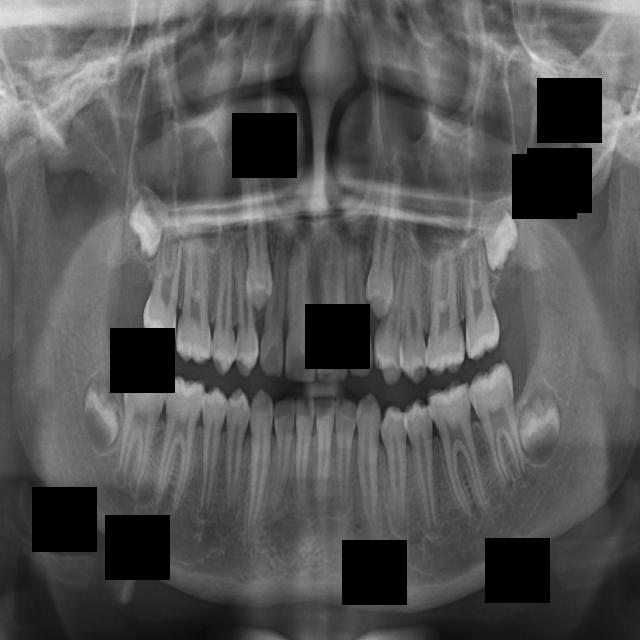3M ESPE Implant: (116, 179, 169, 262)
AGS Medikal Implant: (343, 231, 374, 380)
AMerOss Implant: (362, 151, 408, 321)
Amalgam filling: (371, 229, 414, 388)
Anthogyr Implant: (401, 232, 431, 386)
Bicon Implant: (418, 229, 467, 379)
BioHorizons Implant: (461, 225, 502, 364)
BioLife Implant: (480, 197, 525, 274)
Biomet 3i Implant: (519, 380, 563, 466)
Blue Sky Bio Implant: (465, 354, 531, 501)
Camlog Implant: (427, 376, 494, 537)
Caries: (138, 200, 186, 355)
Composite filling: (405, 396, 442, 556)
Cowellmedi Implant: (380, 399, 410, 539)
Crown: (354, 388, 383, 550)
DENTSPLY Implant: (334, 396, 357, 517)
Dentatus Implant: (313, 396, 334, 508)
Dentis Implant: (293, 395, 314, 516)
Dentium Implant: (270, 396, 296, 522)
Euroteknika Implant: (245, 384, 274, 558)
Filling: (216, 384, 252, 534)
Frontier Implant: (183, 383, 230, 531)
Hiossen Implant: (195, 273, 196, 280)
Implant: (134, 448, 135, 449)
Implant Direct: (149, 371, 207, 525)
Keystone Dental Implant: (64, 367, 136, 464)
MIS Implant: (209, 225, 243, 379)
Mandible: (233, 224, 260, 381)
Maxilla: (238, 154, 275, 314)
Megagen Implant: (259, 220, 290, 380)
Neodent Implant: (284, 222, 318, 379)
Neoss Implant: (316, 225, 348, 386)
